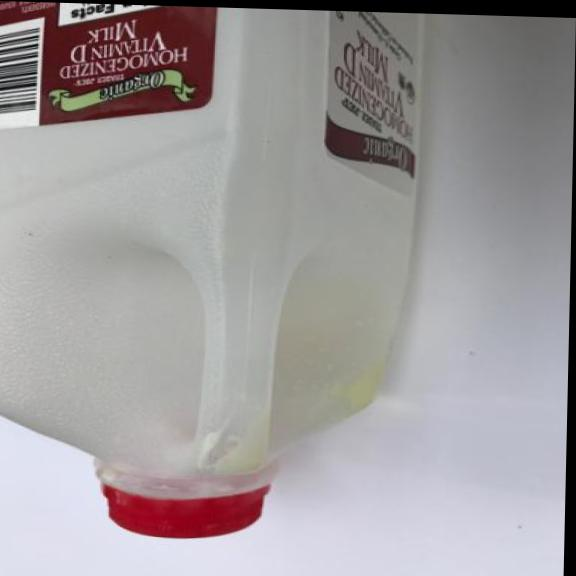Plastik: (0, 0, 434, 552)
